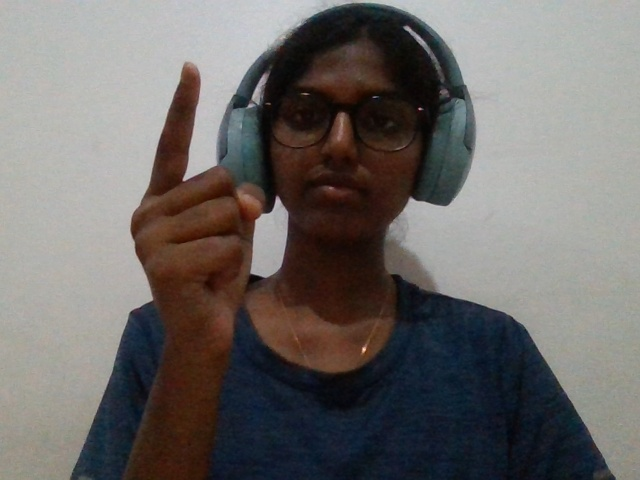You: (96, 42, 295, 415)
